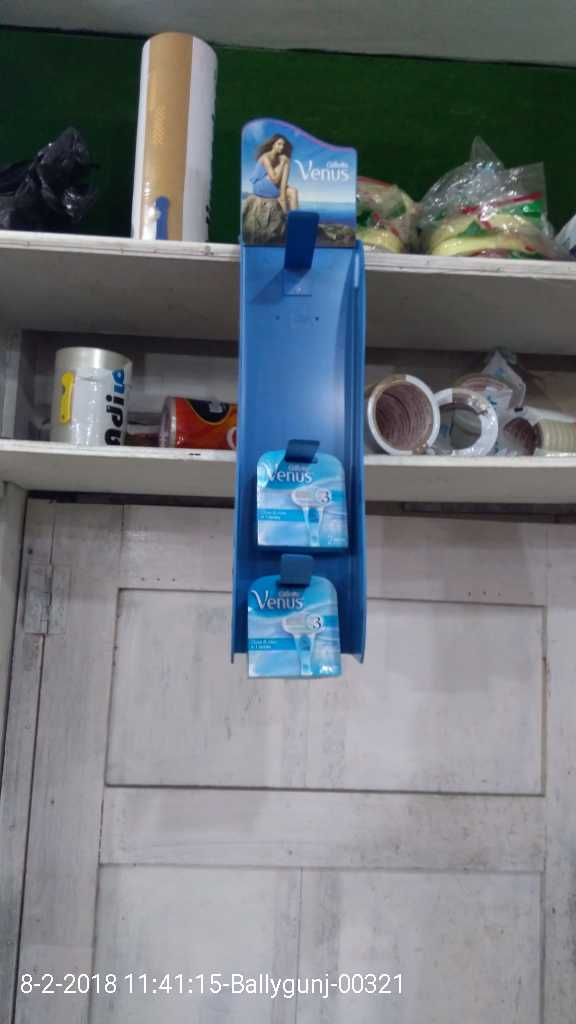venus: (237, 564, 340, 678), (248, 449, 351, 553)
